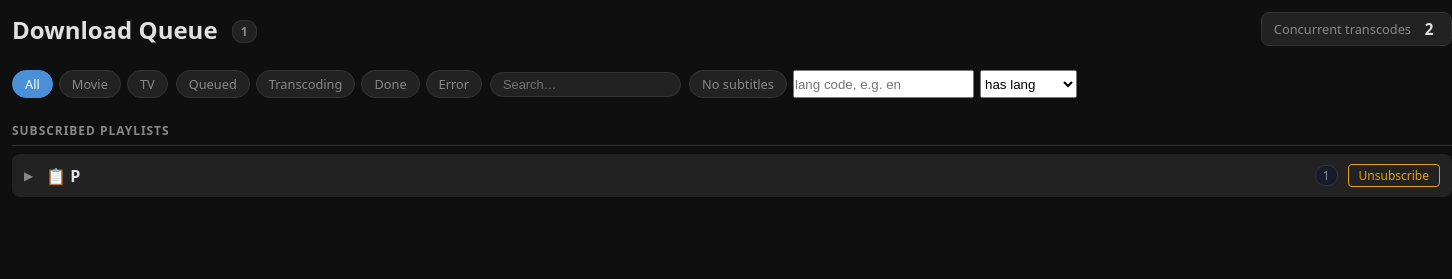
QueueView › TRANSCODING items appear in "Transcoding" sub-section
Click the element with test id "group-header-playlist-5" at (732, 176), box left=12, top=154, right=1451, bottom=197
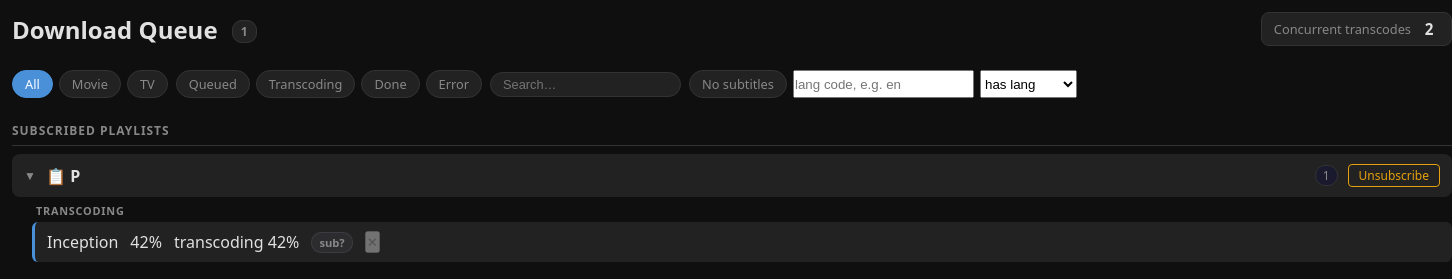
Expected: the text "TRANSCODING" is shown, left=36, top=203, right=125, bottom=218
